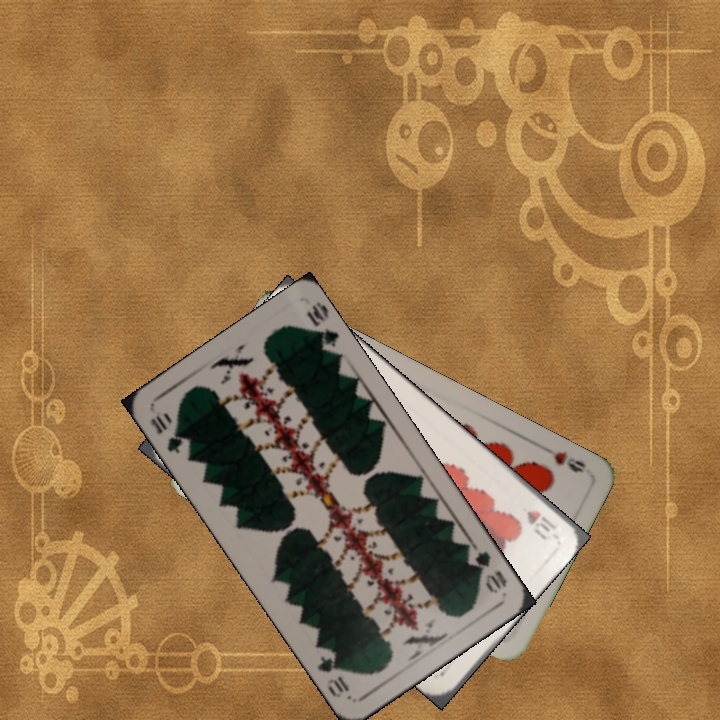G10: (463, 541, 510, 596), (146, 410, 193, 457)
H10: (522, 506, 559, 542)
H9: (550, 447, 588, 476)
